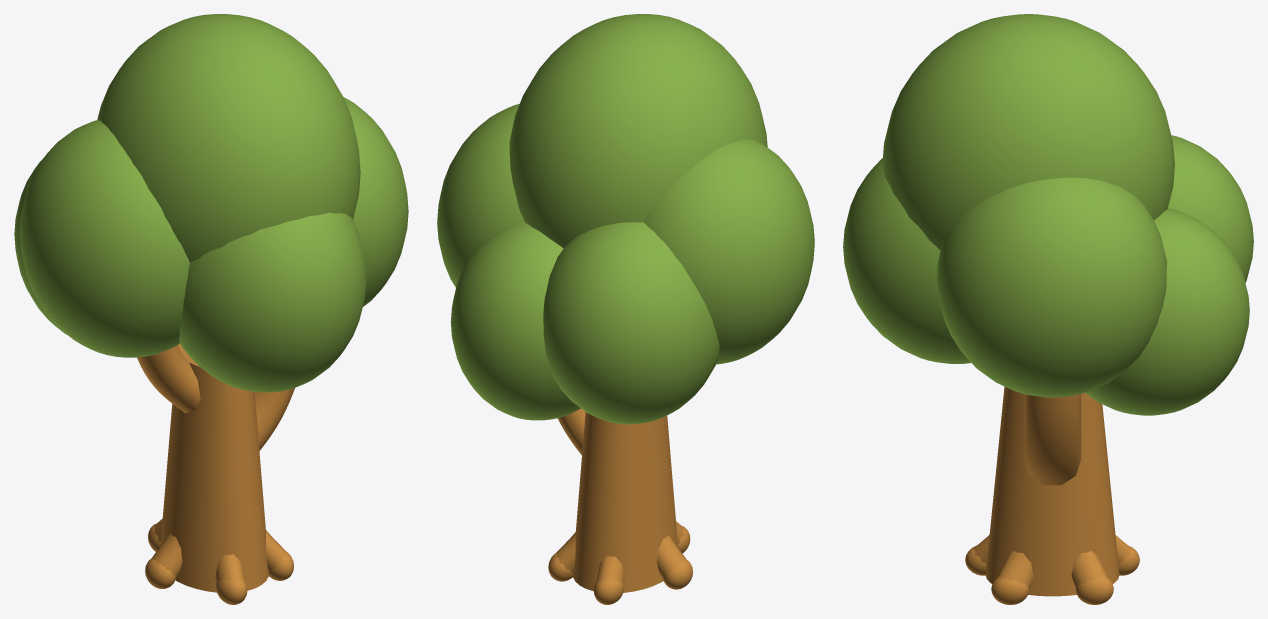
Rendered from tree_ready.fbx.
3 renders of one model, left to right at view 1: azimuth 30°, elevation 25°; view 2: azimuth 150°, elevation 25°; view 3: azimuth 270°, elevation 25°, orthographic. The views are drawn at different scales.
Parts seen in each view (by area): view 1: tree_ready; view 2: tree_ready; view 3: tree_ready.
Part boxes in pixels (x1=…): tree_ready: x1=14, y1=14, x2=408, y2=604; tree_ready: x1=437, y1=14, x2=814, y2=604; tree_ready: x1=843, y1=14, x2=1253, y2=604.
Bounding box in the file's own units: 2 × 3 × 2.
Materials: 1 (1 with a texture image).
